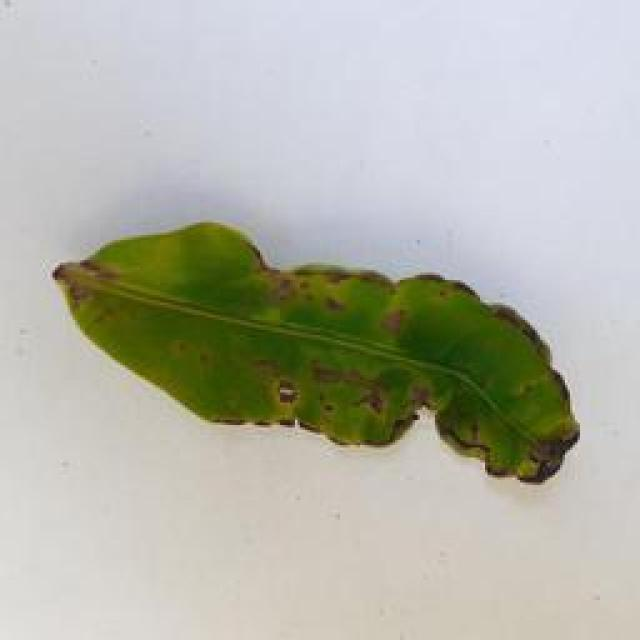Helopeltis: (41, 208, 606, 492)
